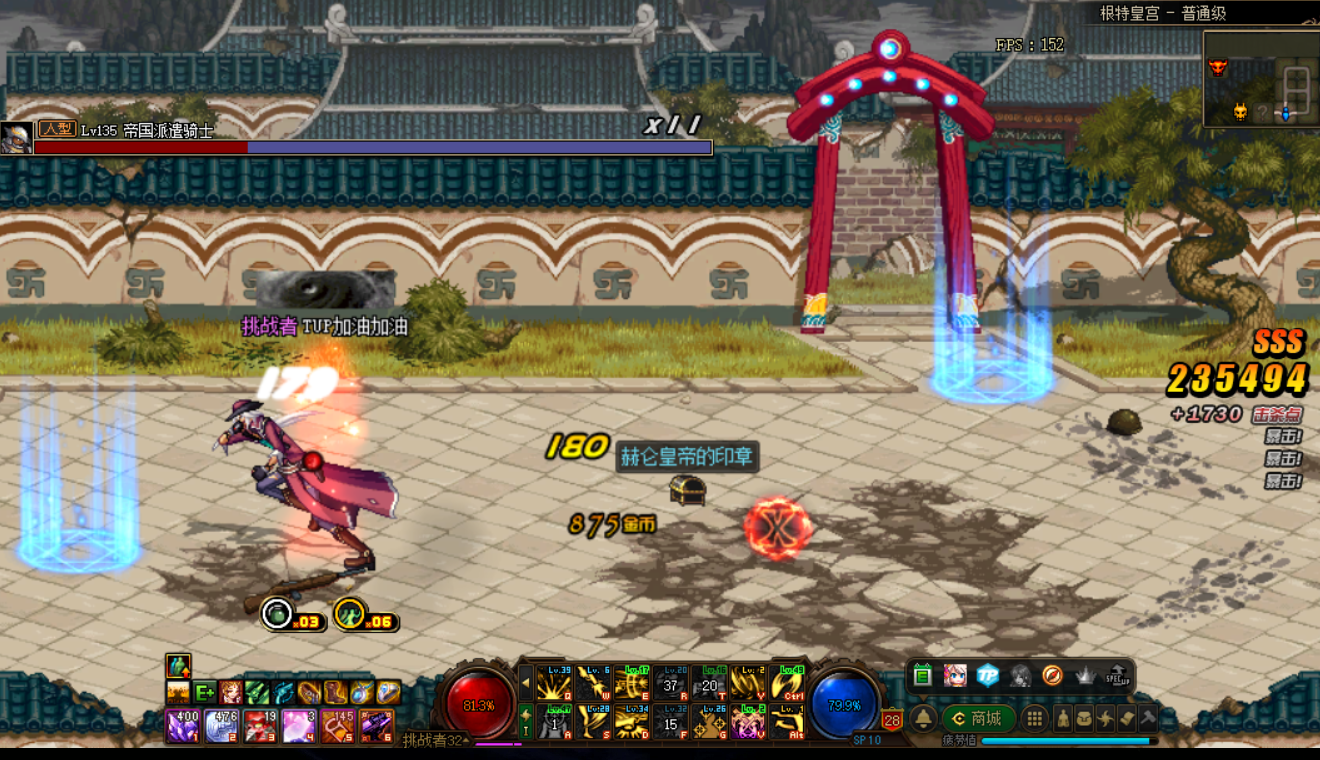warrior: (217, 371, 401, 589)
